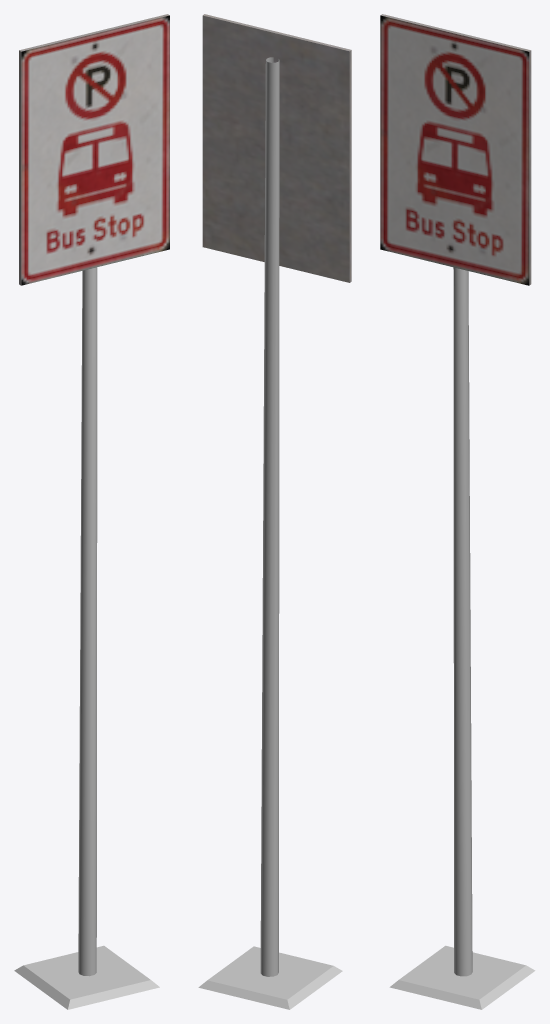
The model's file is D_road_s_bus.FBX.
3 views of the same model, side by side, from view 1: azimuth 30°, elevation 25°; view 2: azimuth 150°, elevation 25°; view 3: azimuth 330°, elevation 25° (orthographic).
Parts seen in each view (by area): view 1: road_s_bus; view 2: road_s_bus; view 3: road_s_bus.
Boxes of the visible parts, box(x1,y1,x2,y2) form: road_s_bus: box(14, 14, 169, 1009); road_s_bus: box(198, 14, 351, 1009); road_s_bus: box(380, 14, 535, 1009).
Size of the model in its own units: 1.66 by 1.04 by 10.17.
